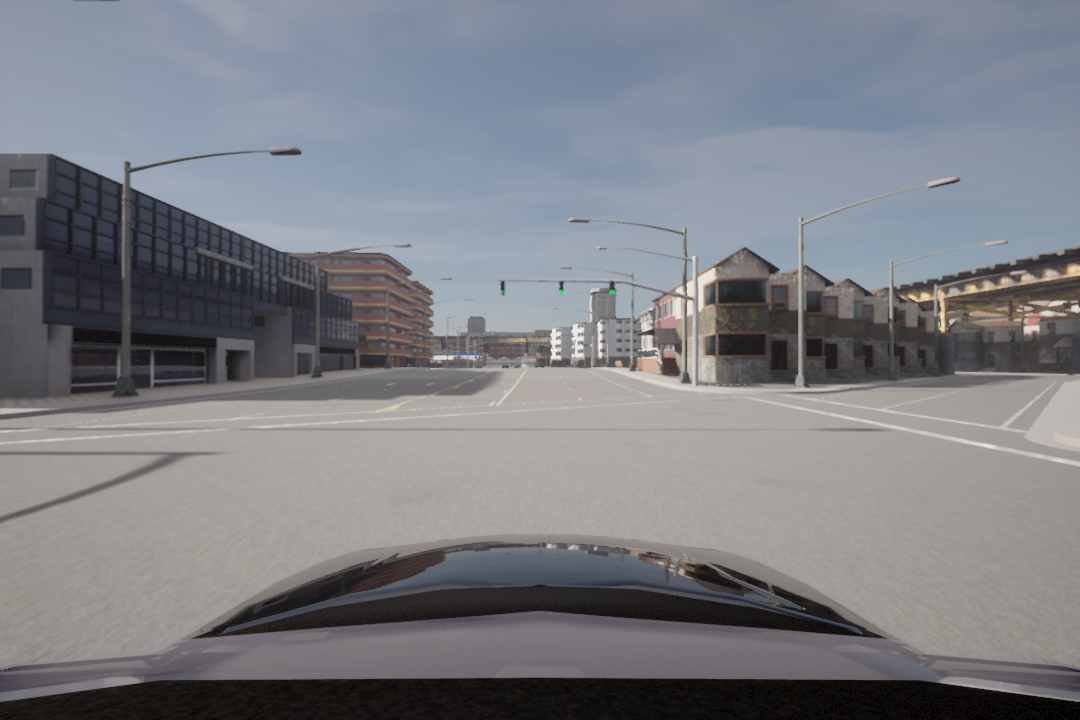TrafficLight: (498, 279, 507, 297), (608, 280, 617, 297), (558, 279, 566, 298)
